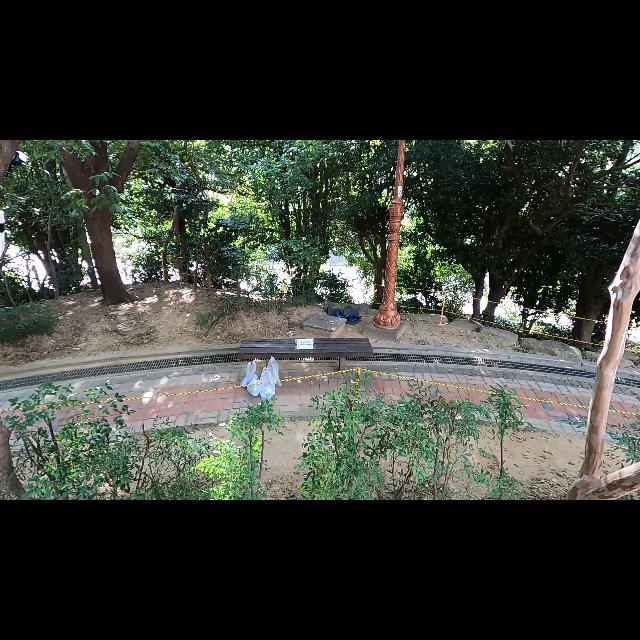trash: (325, 304, 361, 326), (262, 356, 284, 388), (258, 366, 276, 402), (240, 360, 260, 390), (245, 377, 262, 398)
